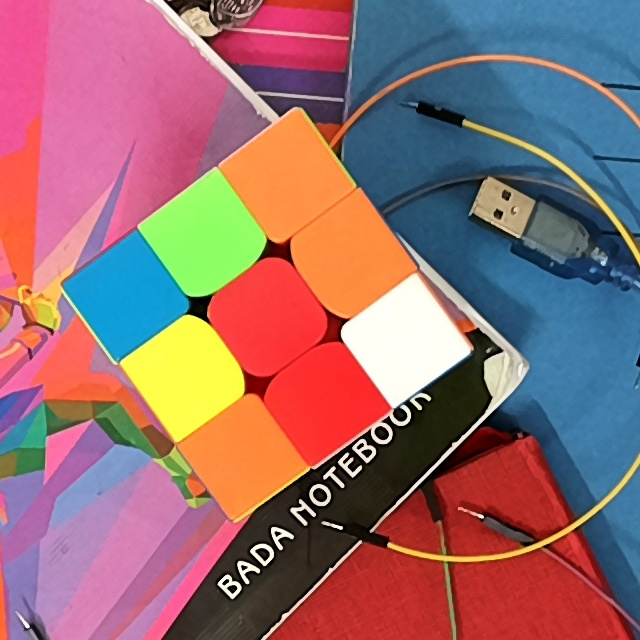tile: (154, 341, 219, 408), (255, 146, 323, 209), (293, 366, 357, 431), (171, 205, 235, 269), (323, 227, 387, 291), (236, 286, 300, 350), (373, 308, 436, 373), (95, 265, 155, 330), (210, 425, 274, 484)
